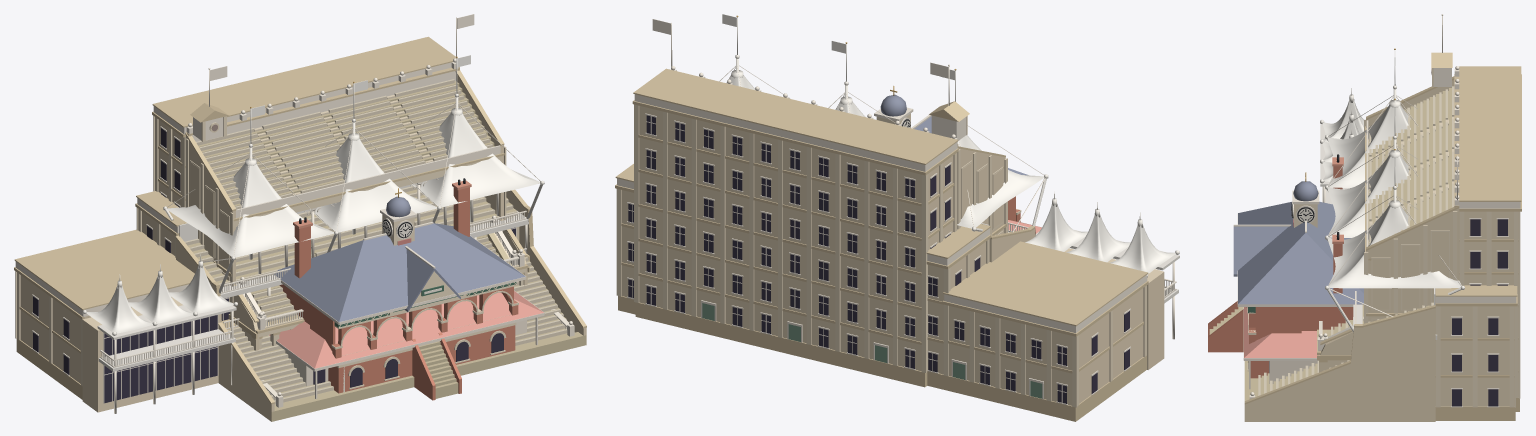
The model's file is gen-downs-l_stands.glb.
3 renders of one model, left to right at view 1: azimuth 30°, elevation 25°; view 2: azimuth 150°, elevation 25°; view 3: azimuth 270°, elevation 25°, orthographic. The views are drawn at different scales.
Visible parts, largest first — view 1: park_tent_stand, park_roof_terrace_stand, park_old_pavilion, ring_pavilion; view 2: park_roof_terrace_stand, park_tent_stand, park_old_pavilion; view 3: park_tent_stand, park_roof_terrace_stand, park_old_pavilion, ring_pavilion.
Boxes of the visible parts, left/top/right/bottom form: park_tent_stand: left=14, top=55, right=586, bottom=421; park_roof_terrace_stand: left=152, top=14, right=574, bottom=407; park_old_pavilion: left=274, top=178, right=526, bottom=400; ring_pavilion: left=269, top=290, right=544, bottom=398; park_roof_terrace_stand: left=632, top=19, right=1023, bottom=387; park_tent_stand: left=615, top=14, right=1179, bottom=421; park_old_pavilion: left=874, top=86, right=1028, bottom=222; park_tent_stand: left=1244, top=48, right=1517, bottom=421; park_roof_terrace_stand: left=1249, top=14, right=1521, bottom=411; park_old_pavilion: left=1208, top=154, right=1363, bottom=378; ring_pavilion: left=1243, top=307, right=1318, bottom=389.
Size of the model in its own units: 59.31 by 35.42 by 36.97.
